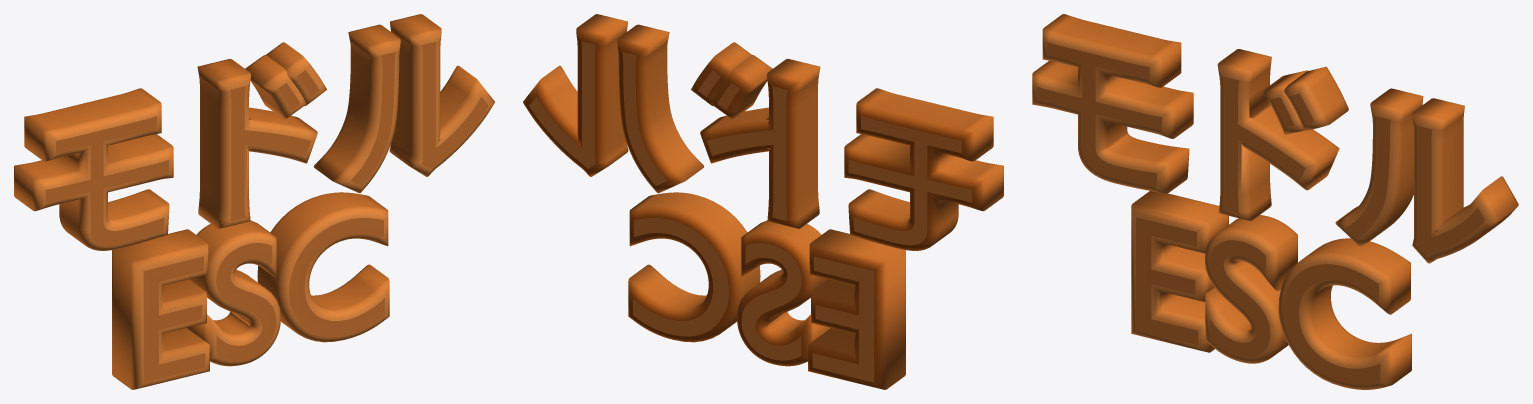
Rendered from modoru.obj.
The picture shows the model from 3 angles, left to right: view 1: azimuth 30°, elevation 25°; view 2: azimuth 150°, elevation 25°; view 3: azimuth 330°, elevation 25°; orthographic projection.
Visible parts, largest first — view 1: テキスト; view 2: テキスト; view 3: テキスト.
Part boxes in pixels (<box>): テキスト: <box>14,14,494,389</box>; テキスト: <box>523,14,1003,389</box>; テキスト: <box>1032,14,1518,389</box>.
Bounding box in the file's own units: 2.95 × 1.79 × 0.3.
1 material, 1 textured.
